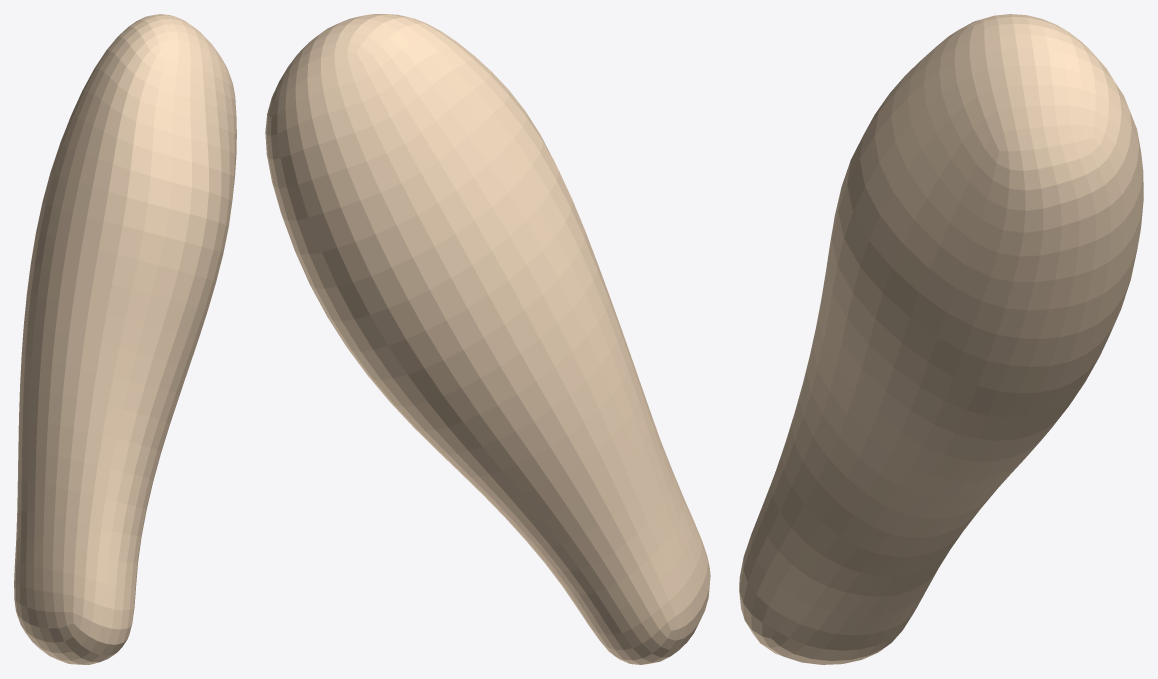
Rendered from RightArm.fbx.
3 renders of one model, left to right at view 1: azimuth 30°, elevation 25°; view 2: azimuth 150°, elevation 25°; view 3: azimuth 270°, elevation 25°, orthographic. The views are drawn at different scales.
Parts seen in each view (by area): view 1: RightArm; view 2: RightArm; view 3: RightArm.
Part boxes in pixels (x1,y1,x2,y2): RightArm: [14, 14, 236, 664]; RightArm: [265, 14, 710, 664]; RightArm: [739, 14, 1143, 664].
Size of the model in its own units: 0.1382 by 0.2638 by 0.1305.
